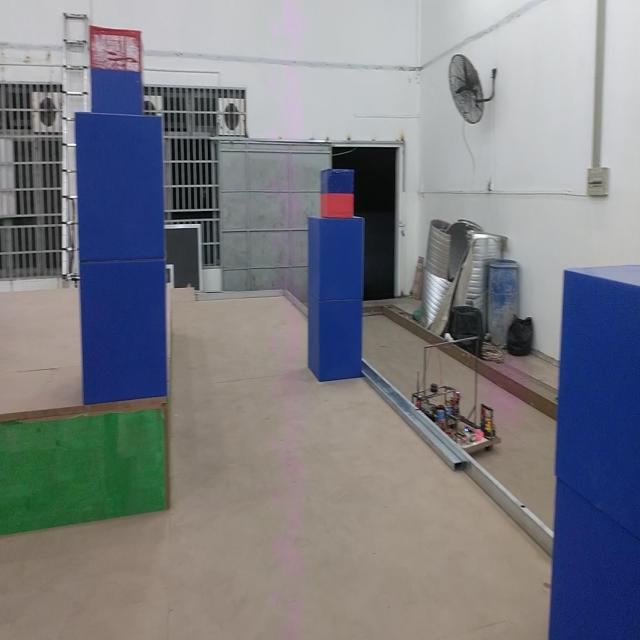earth_block: (76, 261, 170, 406), (74, 113, 166, 260), (306, 217, 366, 299), (306, 300, 363, 381)
sky_block: (88, 23, 145, 112), (319, 168, 357, 218)
